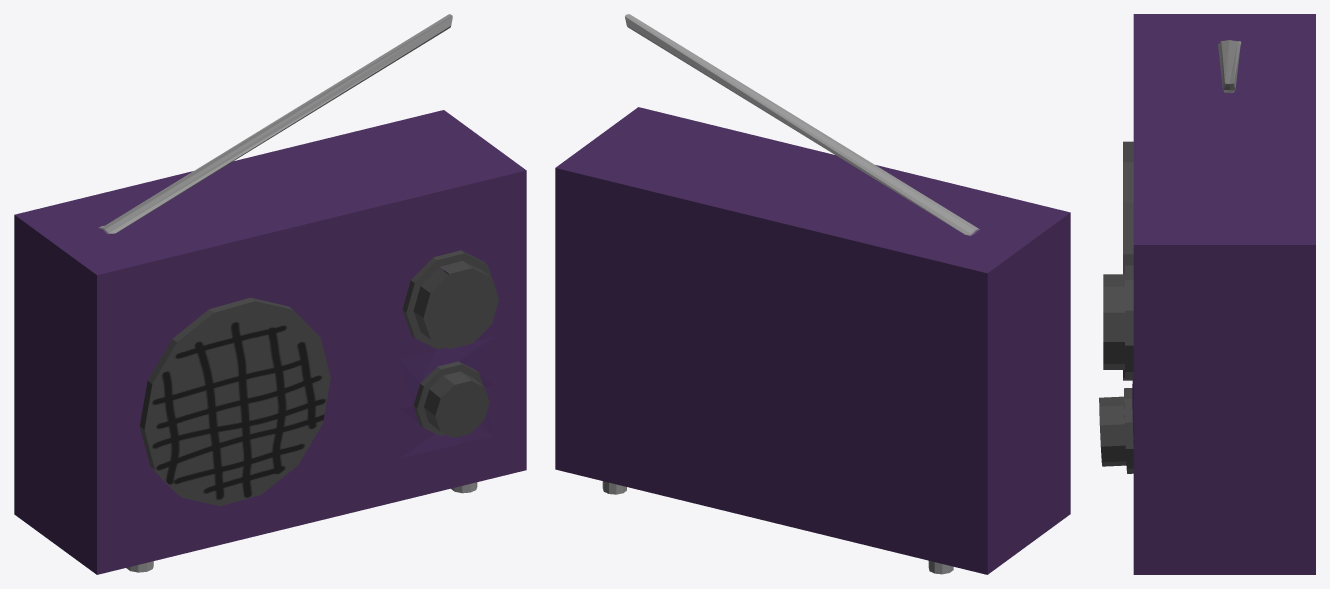
Rendered from radio.fbx.
3 renders of one model, left to right at view 1: azimuth 30°, elevation 25°; view 2: azimuth 150°, elevation 25°; view 3: azimuth 270°, elevation 25°, orthographic. The views are drawn at different scales.
Parts seen in each view (by area): view 1: pCube1; view 2: pCube1; view 3: pCube1.
Part boxes in pixels (left/top/right/bottom): pCube1: left=14, top=14, right=526, bottom=574; pCube1: left=555, top=14, right=1070, bottom=574; pCube1: left=1099, top=14, right=1315, bottom=574.
Bounding box in the file's own units: 1.57 × 1.56 × 0.622.
Materials: 1 (1 with a texture image).
